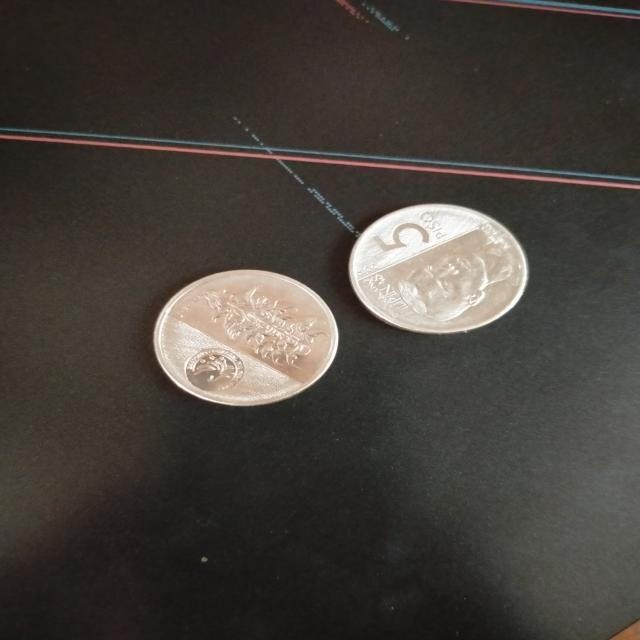5_New_Back: (198, 279, 334, 372)
5_New_Front: (366, 204, 452, 257)
